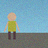person: (4, 12, 20, 39)
